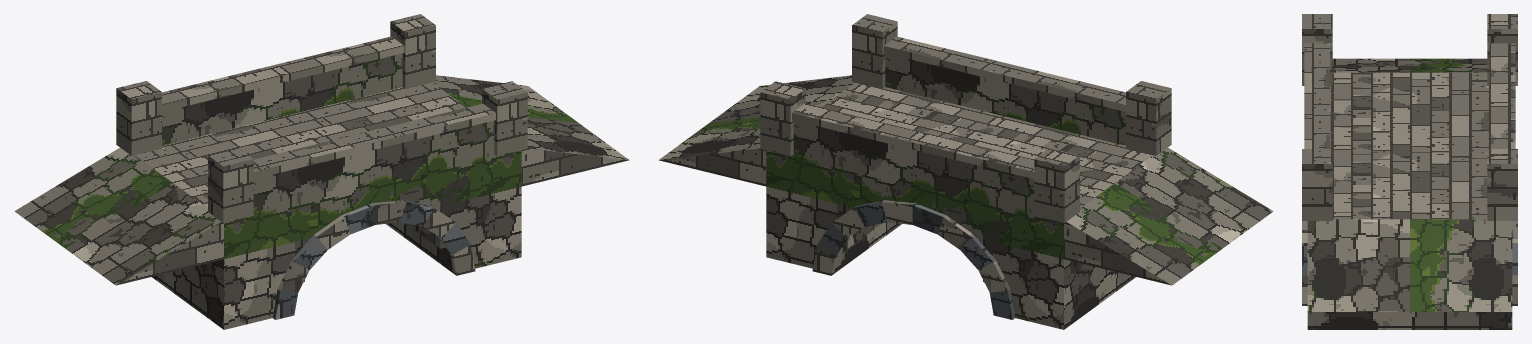
Rendered from MV_Bridge.glb.
3 views of the same model, side by side, from view 1: azimuth 30°, elevation 25°; view 2: azimuth 150°, elevation 25°; view 3: azimuth 270°, elevation 25° (orthographic).
Visible parts, largest first — view 1: MV_Bridge_Stone_A.MV_Bridge; view 2: MV_Bridge_Stone_A.MV_Bridge; view 3: MV_Bridge_Stone_A.MV_Bridge.
Part boxes in pixels (box(x1,y1,x2,y2)): MV_Bridge_Stone_A.MV_Bridge: box(14, 14, 629, 329); MV_Bridge_Stone_A.MV_Bridge: box(658, 14, 1273, 329); MV_Bridge_Stone_A.MV_Bridge: box(1302, 14, 1517, 329).
Bounding box in the file's own units: 7.6 × 2.35 × 2.74.
Materials: 3 (3 with a texture image).
